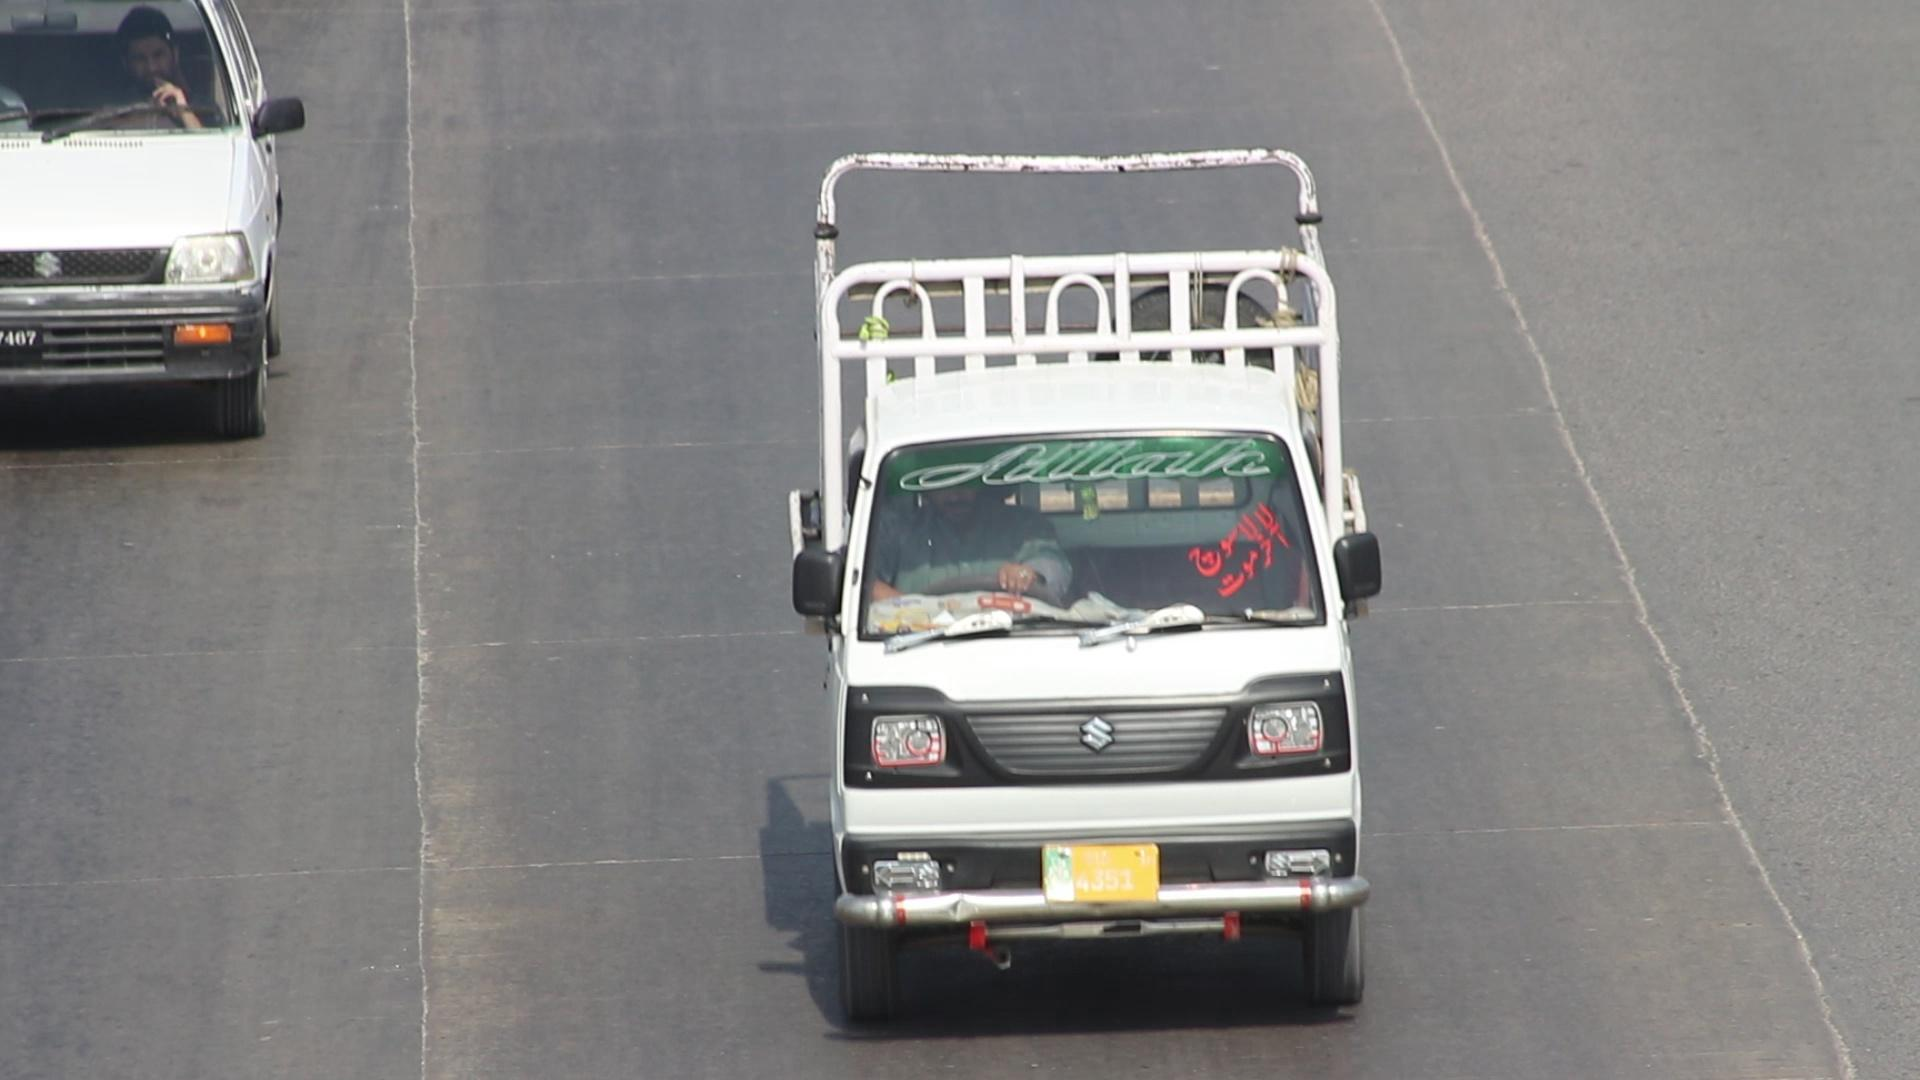windshield: (844, 417, 1348, 657)
